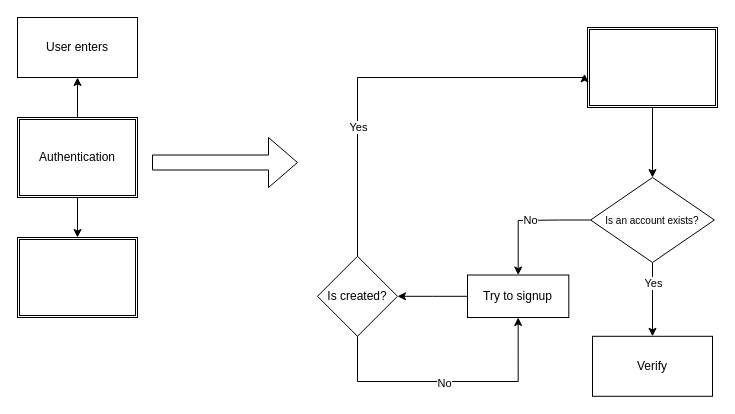
This 735x414 diagram has some shape labels left out. Here are the shapes that lost their labels. From the top down, the box of each, then its label:
(586, 26, 718, 108): User tries to login
(152, 136, 298, 188): Details
(16, 236, 138, 318): Home page
